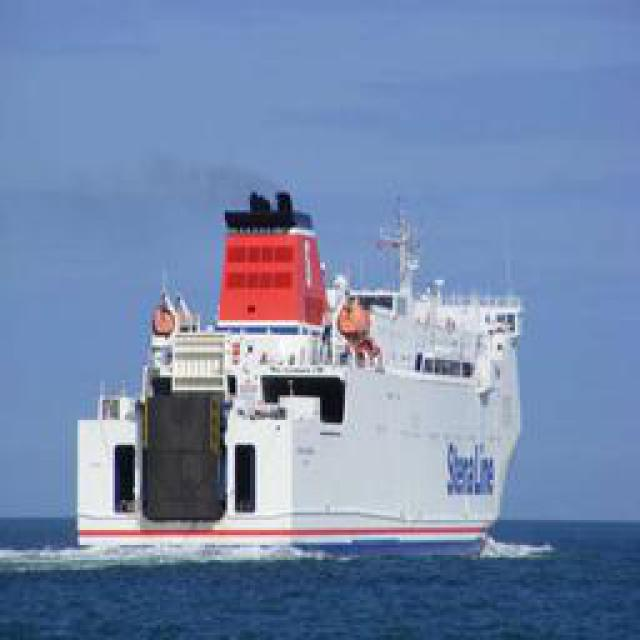Ship: (71, 172, 539, 555)
